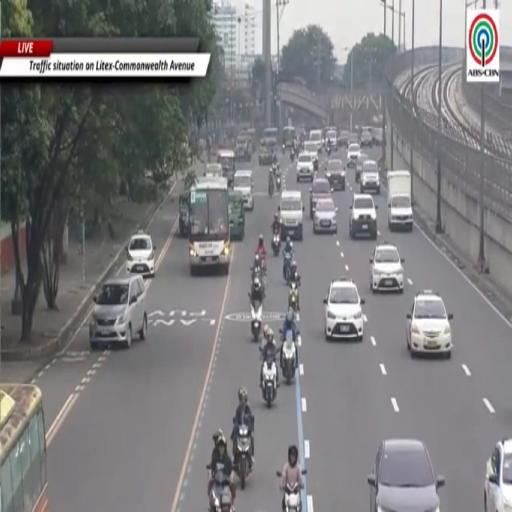bus: (0, 383, 48, 511), (189, 178, 232, 275), (283, 126, 295, 148)
car: (367, 439, 444, 511), (89, 276, 147, 349), (406, 291, 452, 358), (324, 278, 364, 341), (484, 439, 511, 511), (370, 243, 404, 293), (126, 231, 156, 277), (279, 190, 304, 241), (349, 195, 377, 239), (313, 198, 337, 233), (234, 170, 254, 211), (310, 179, 330, 219), (360, 159, 380, 195), (325, 159, 345, 190), (296, 152, 314, 182), (355, 153, 369, 183), (304, 141, 318, 170), (347, 143, 360, 168), (309, 130, 323, 152), (204, 164, 223, 178), (359, 129, 373, 147), (325, 130, 337, 151), (372, 127, 383, 146), (338, 131, 349, 147), (348, 132, 359, 145)
jeepney: (229, 190, 245, 241), (218, 150, 235, 186), (179, 191, 189, 237), (259, 138, 276, 165), (236, 135, 251, 162), (246, 128, 257, 153)
motorcycle: (234, 424, 251, 489), (209, 472, 234, 511), (280, 329, 297, 383), (262, 355, 276, 407), (284, 483, 302, 511), (251, 303, 262, 342), (251, 258, 266, 284), (283, 252, 293, 285), (289, 282, 298, 312), (271, 232, 281, 255), (268, 174, 273, 197), (271, 164, 277, 178), (276, 174, 281, 190), (290, 150, 294, 162), (327, 146, 330, 157), (282, 144, 285, 154)
truck: (387, 171, 413, 231)
